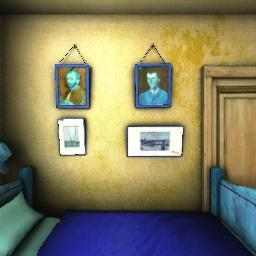bed: (0, 165, 256, 256)
